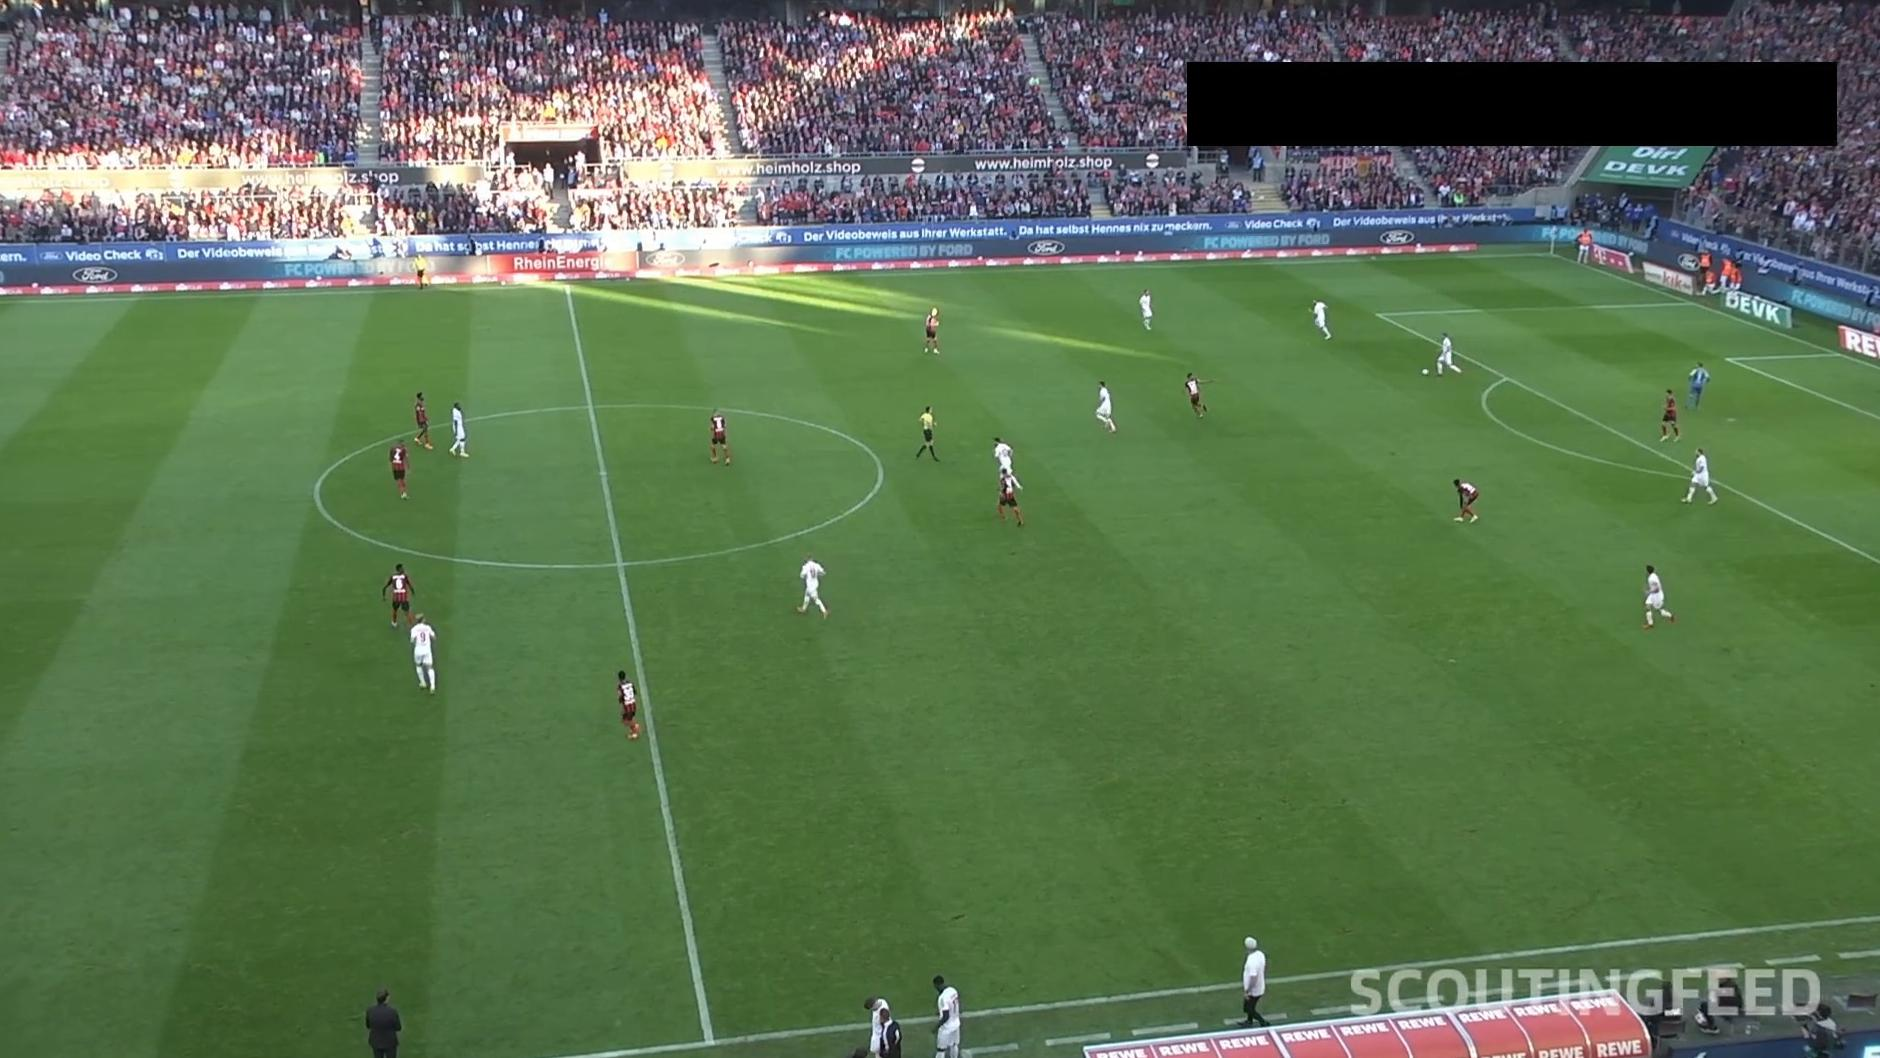ball: (1422, 367, 1429, 376)
